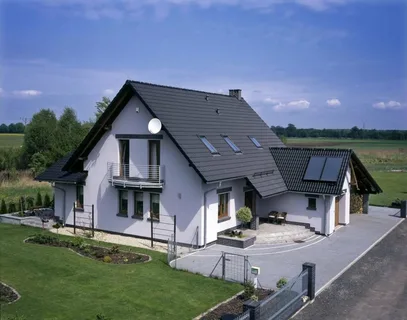private_hause: (64, 85, 347, 240)
